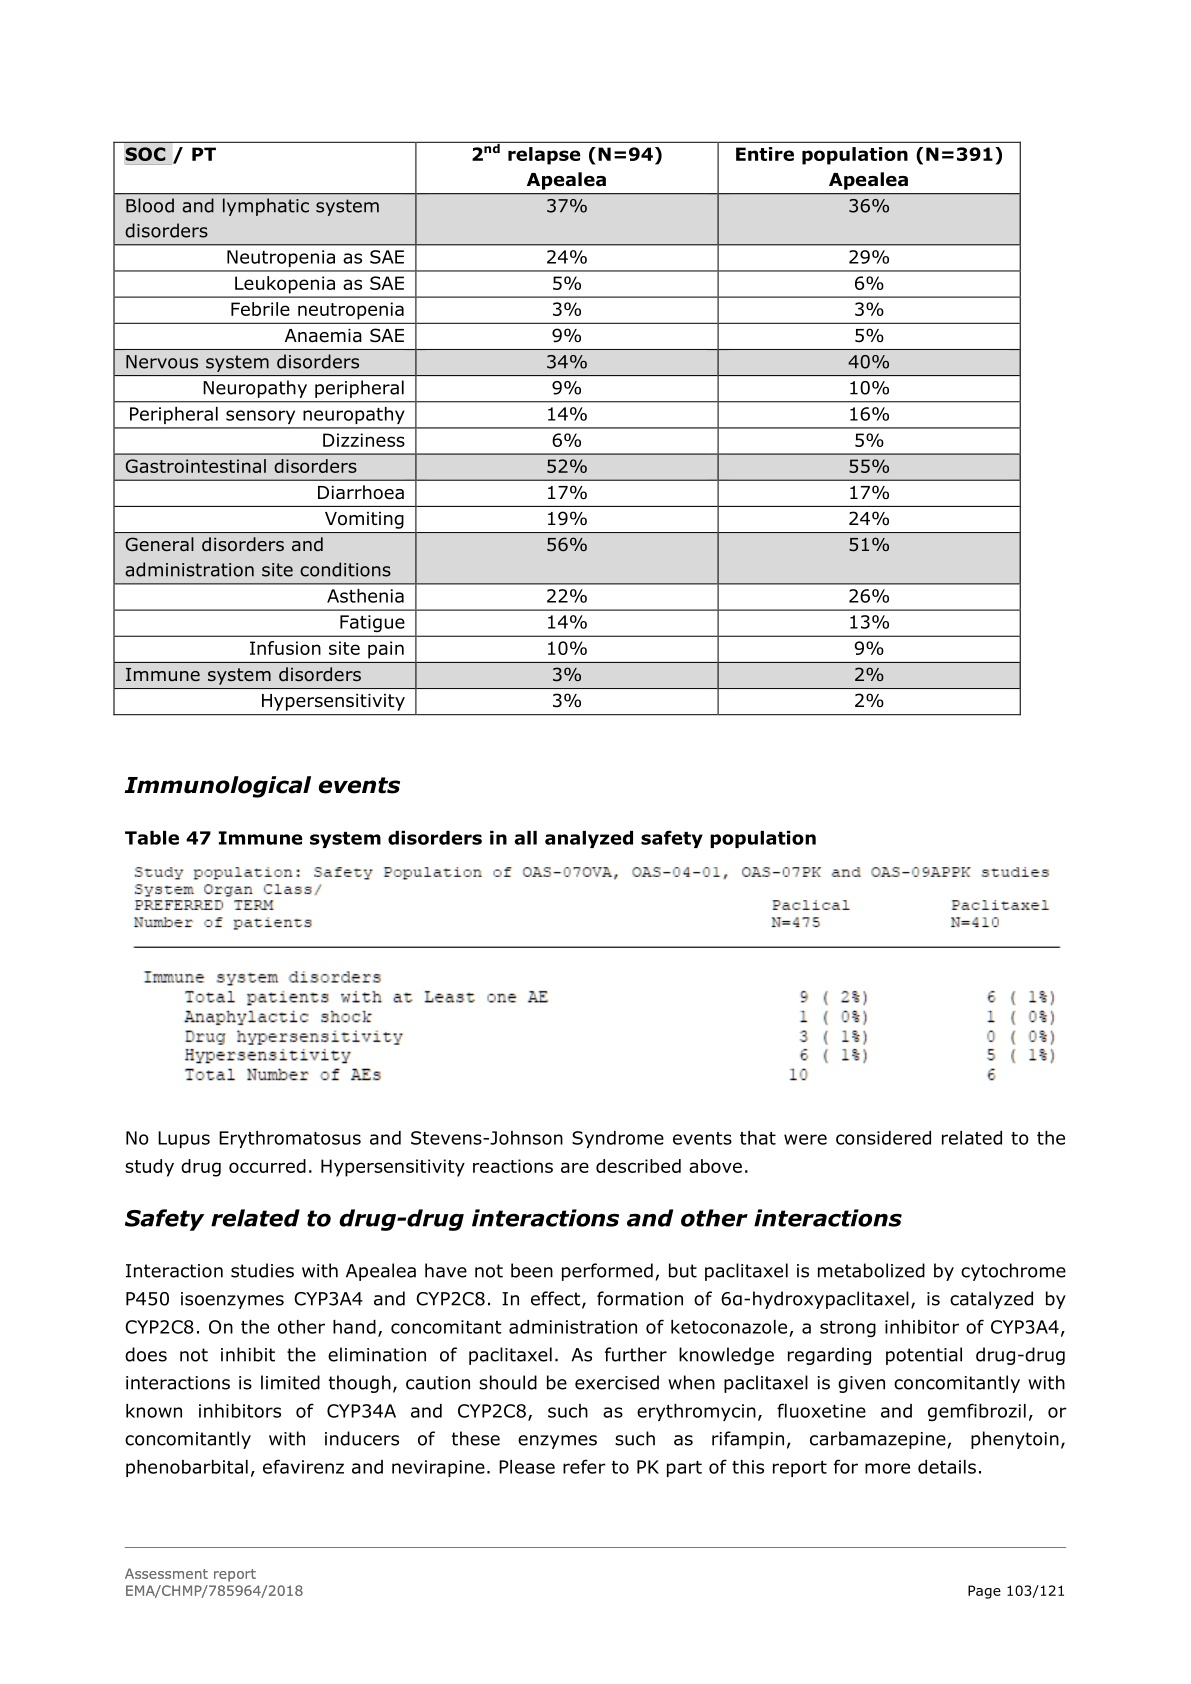full_lined: (112, 140, 1021, 716)
partial_lined_merged_cells: (128, 861, 1063, 1091)
